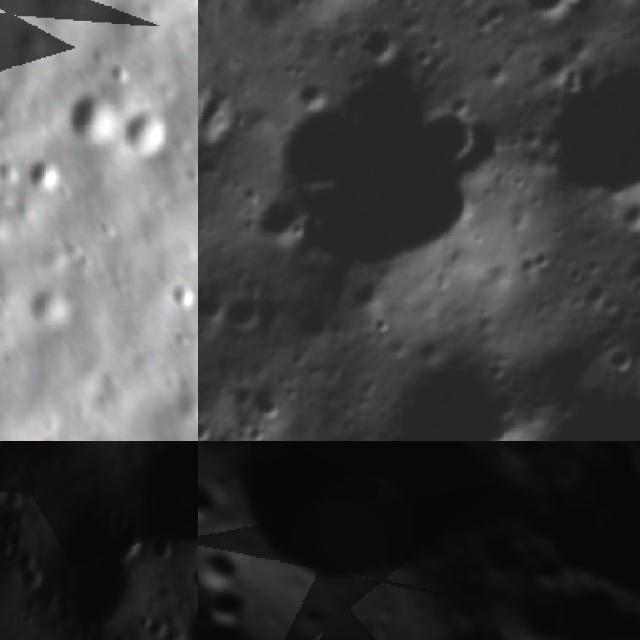crater: (226, 27, 521, 324), (198, 441, 563, 640), (502, 11, 640, 244), (360, 313, 560, 441), (517, 482, 640, 640), (463, 345, 640, 441), (388, 595, 576, 640), (130, 441, 198, 551), (212, 272, 284, 348), (56, 85, 126, 151), (198, 573, 262, 640), (502, 0, 604, 38), (117, 102, 172, 166), (24, 272, 76, 339), (282, 0, 422, 23), (198, 271, 237, 336), (198, 462, 226, 544), (27, 144, 69, 198), (243, 383, 290, 431), (617, 234, 640, 299), (198, 402, 224, 441)
